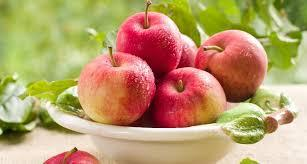Apple: (79, 52, 155, 125), (196, 30, 268, 102), (154, 67, 227, 131), (116, 11, 182, 75), (156, 33, 202, 81), (44, 150, 100, 164)
